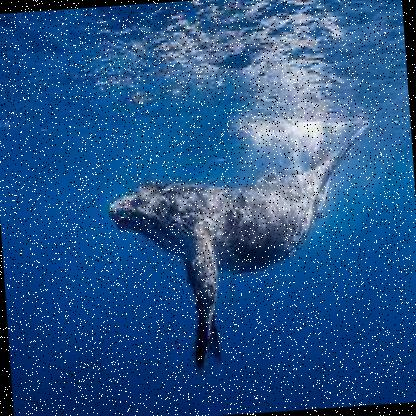blue_whale: (98, 114, 406, 364)
